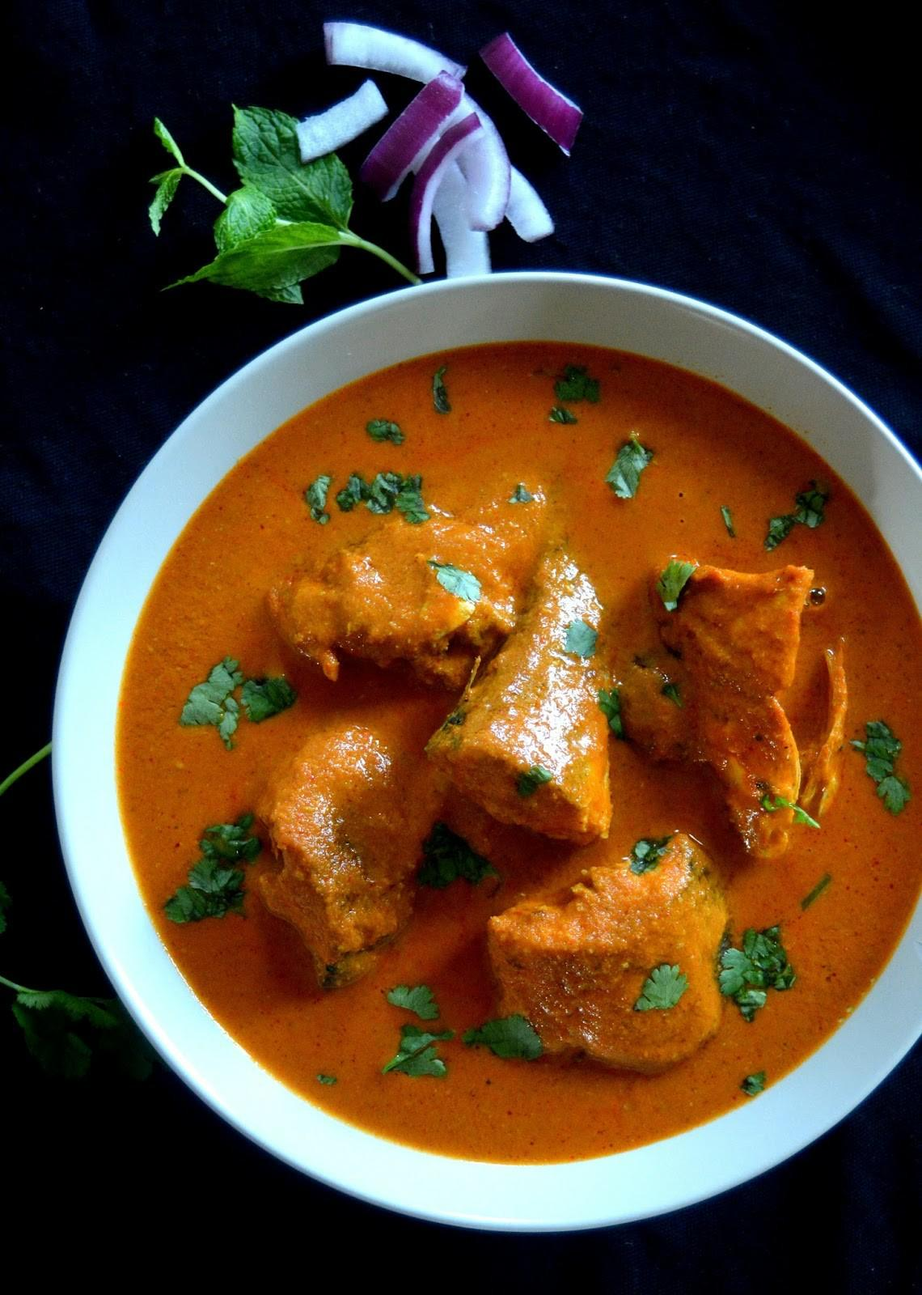FishCurry: (120, 337, 922, 1168)
